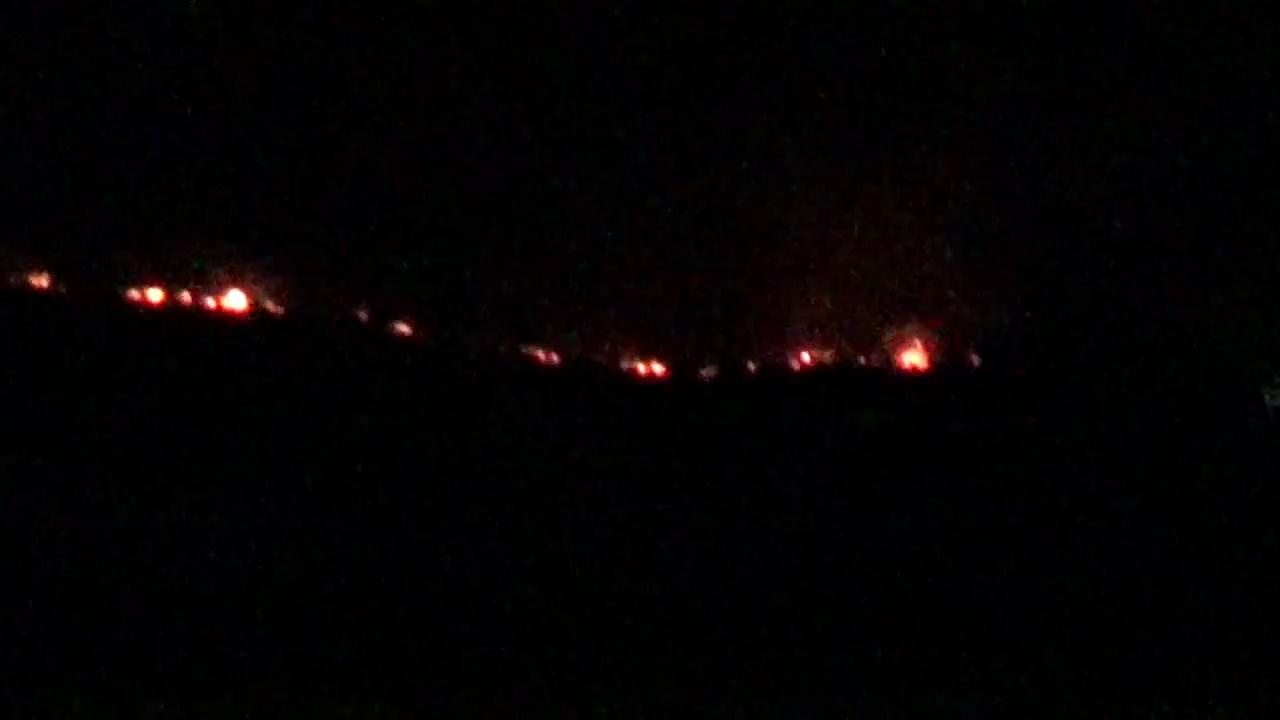fire: (130, 280, 266, 314), (888, 320, 932, 372)
